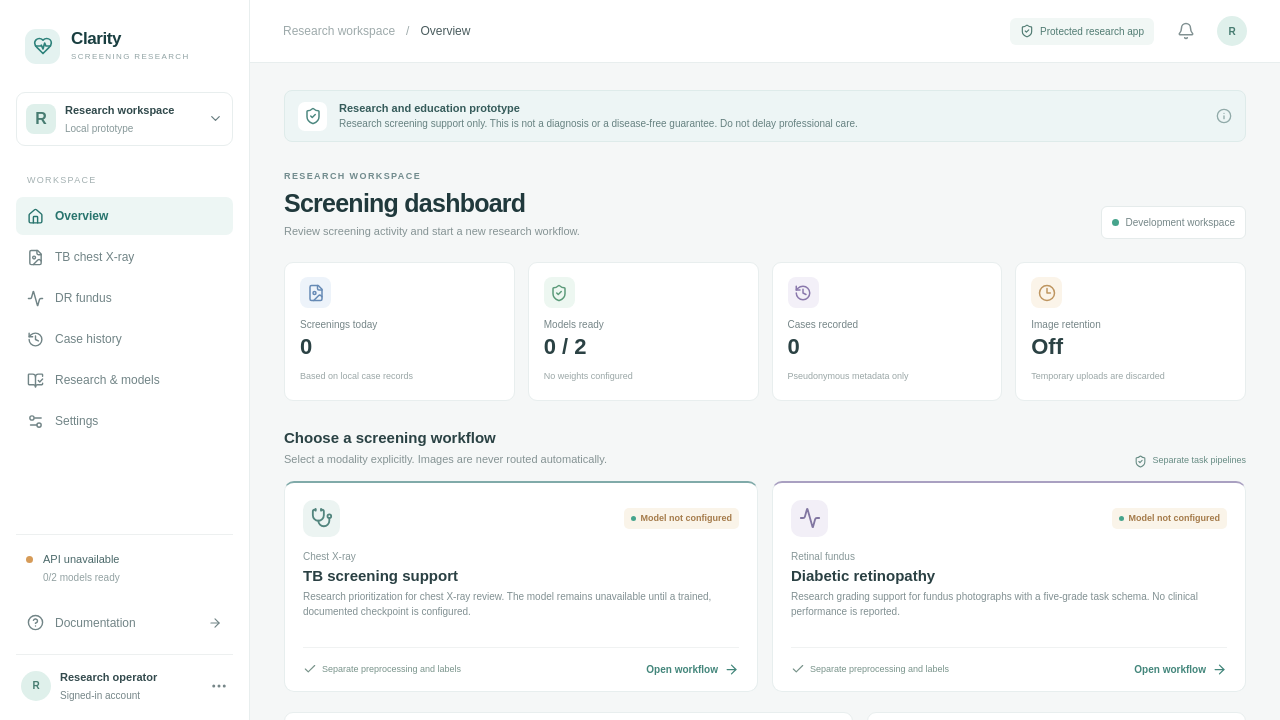
Test: research dashboard › opens the TB workflow explicitly
This screenshot has width=1280, height=720.
Click the button "Open workflow" below "TB screening support" at (693, 669), box [646,662,739,677]
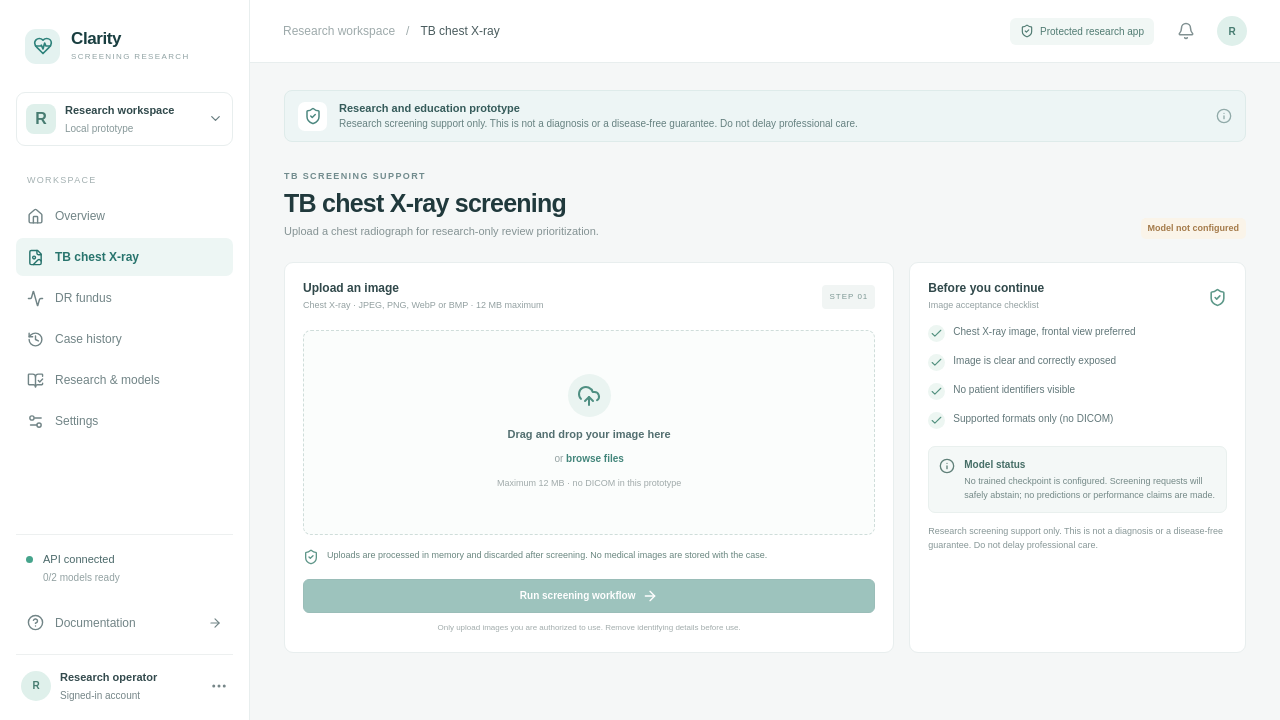
Expected: the heading "Upload an image" is shown, [303,281,399,295]
Expected: the text "No trained checkpoint is configured" is shown, [964,476,1215,500]
